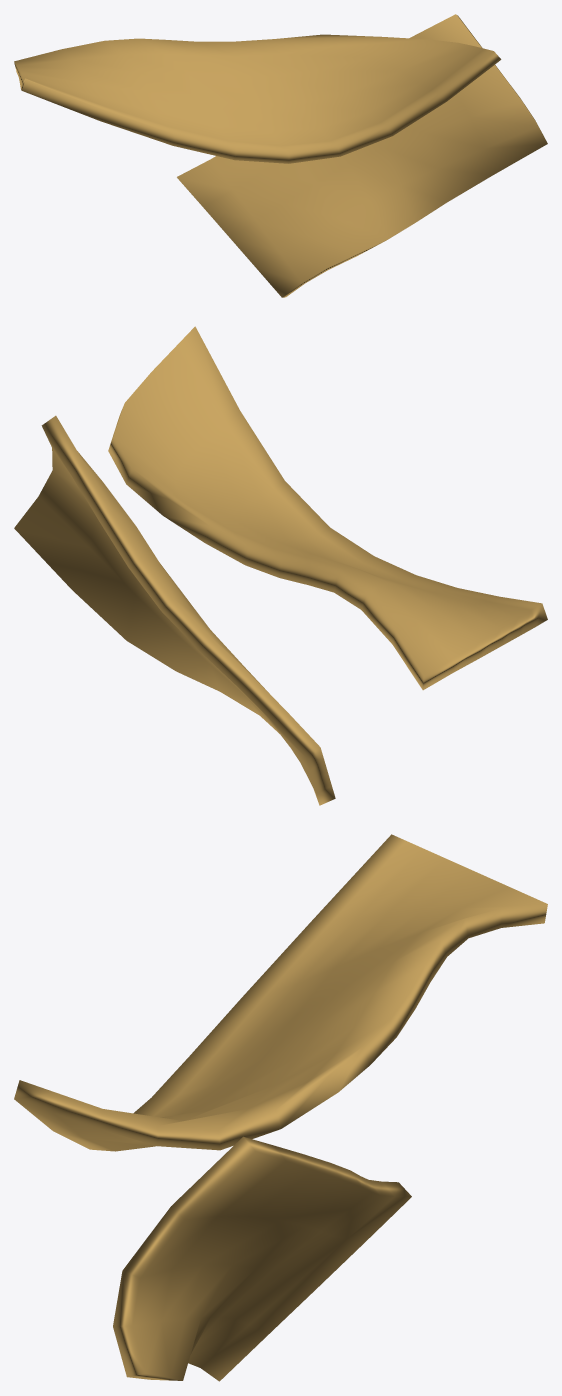
3 renders of one model, top to bottom at view 1: azimuth 30°, elevation 25°; view 2: azimuth 150°, elevation 25°; view 3: azimuth 270°, elevation 25°, orthographic. The views are drawn at different scales.
Parts seen in each view (by area): view 1: 右侧距跟骨间韧带; view 2: 右侧距跟骨间韧带; view 3: 右侧距跟骨间韧带.
Part boxes in pixels (x1=…): 右侧距跟骨间韧带: x1=14, y1=14, x2=547, y2=297; 右侧距跟骨间韧带: x1=14, y1=326, x2=547, y2=805; 右侧距跟骨间韧带: x1=14, y1=834, x2=547, y2=1381.
Bounding box in the file's own units: 0.0309 × 0.0168 × 0.0193.
